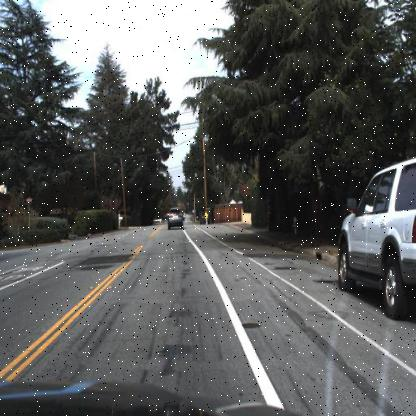car: (336, 155, 416, 324), (162, 201, 188, 237)
